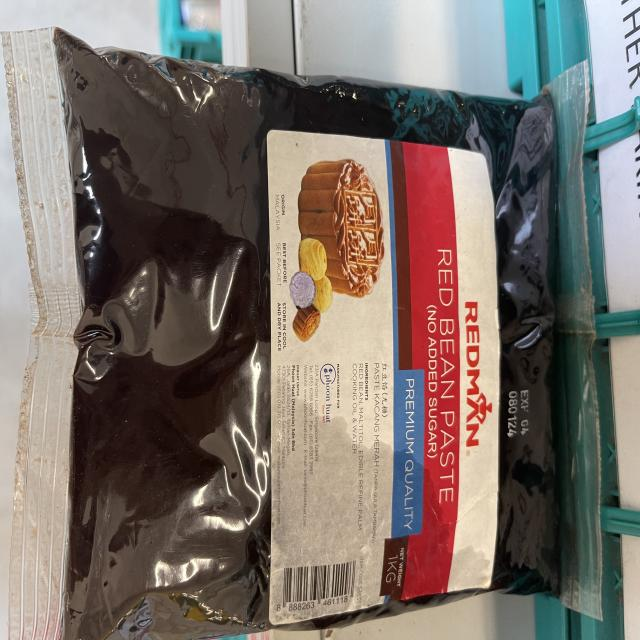object_name: (22, 61, 602, 613)
